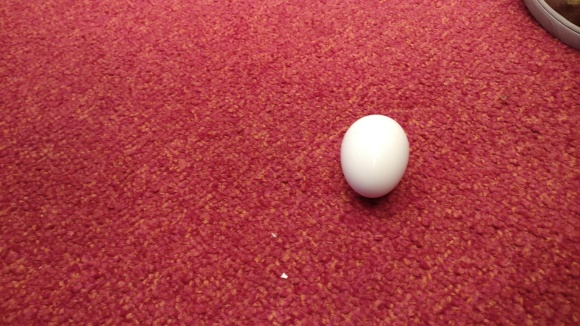egg: (338, 112, 411, 199)
